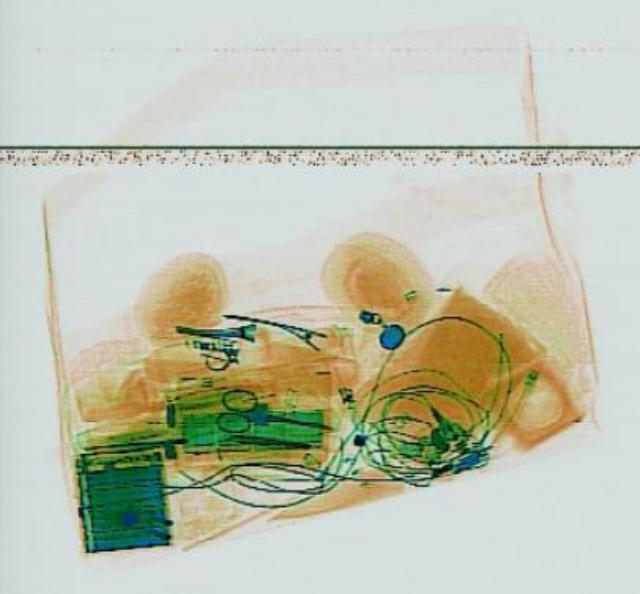Scissors: (210, 380, 334, 449)
